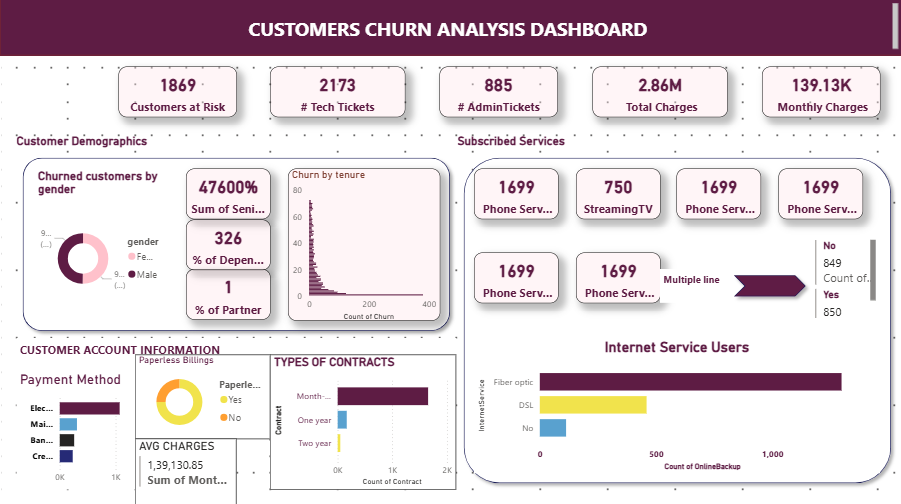

The dashboard page shown, as its layout file describes it:
{"tool":"powerbi","page":{"name":"Page 1","canvas":[1280,720],"ordinal":0},"visuals":[{"type":"card","fields":{"Values":["Count(01 Churn-Dataset.customerID)"]},"box":[168,96,168,72],"z":0},{"type":"textbox","box":[0,0,1280,80],"z":1000},{"type":"card","fields":{"Values":["Sum(01 Churn-Dataset.numAdminTickets)"]},"box":[624,96,168,72],"z":2000},{"type":"card","fields":{"Values":["Sum(01 Churn-Dataset.numTechTickets)"]},"box":[384,96,192,72],"z":3000},{"type":"card","fields":{"Values":["Sum(01 Churn-Dataset.TotalCharges)"]},"box":[840,96,192,72],"z":4000},{"type":"card","fields":{"Values":["Sum(01 Churn-Dataset.MonthlyCharges)"]},"box":[1080,96,168,72],"z":5000},{"type":"shape","title":"Customer Demographics","box":[24,192,624,288],"z":6000},{"type":"donutChart","title":"Churned customers by gender","fields":{"Category":["01 Churn-Dataset.gender"],"Y":["CountNonNull(01 Churn-Dataset.customerID)"]},"box":[48,240,192,216],"z":7000},{"type":"card","fields":{"Values":["Sum(01 Churn-Dataset.SeniorCitizen)"]},"box":[264,240,120,72],"z":8000},{"type":"card","fields":{"Values":["CountNonNull(01 Churn-Dataset.Dependents)"]},"box":[264,312,120,72],"z":9000},{"type":"card","fields":{"Values":["Count(01 Churn-Dataset.Partner)"]},"box":[264,384,120,72],"z":10000},{"type":"clusteredBarChart","title":"Churn by tenure","fields":{"Y":["CountNonNull(01 Churn-Dataset.Churn)"],"Category":["01 Churn-Dataset.tenure"]},"box":[408,240,216,216],"z":11000},{"type":"shape","title":"Subscribed Services","box":[648,192,624,504],"z":12000},{"type":"card","fields":{"Values":["CountNonNull(01 Churn-Dataset.PhoneService)"]},"box":[672,240,120,72],"z":13000},{"type":"card","fields":{"Values":["CountNonNull(01 Churn-Dataset.PhoneService)"]},"box":[1104,240,120,72],"z":14000},{"type":"card","fields":{"Values":["CountNonNull(01 Churn-Dataset.PhoneService)"]},"box":[816,360,120,72],"z":15000},{"type":"card","fields":{"Values":["CountNonNull(01 Churn-Dataset.PhoneService)"]},"box":[672,360,120,72],"z":16000},{"type":"card","fields":{"Values":["CountNonNull(01 Churn-Dataset.StreamingTV)"]},"box":[816,240,120,72],"z":17000},{"type":"card","fields":{"Values":["CountNonNull(01 Churn-Dataset.PhoneService)"]},"box":[960,240,120,72],"z":18000},{"type":"multiRowCard","fields":{"Values":["01 Churn-Dataset.MultipleLines","01 Churn-Dataset.customerID"]},"box":[1152,336,96,120],"z":18001},{"type":"shape","box":[1032,384,120,48],"z":18002},{"type":"textbox","box":[936,384,96,48],"z":18003},{"type":"barChart","title":" Internet Service Users","fields":{"Category":["01 Churn-Dataset.InternetService"],"Y":["CountNonNull(01 Churn-Dataset.OnlineBackup)"]},"box":[672,480,576,192],"z":18004},{"type":"textbox","box":[24,480,624,48],"z":18005},{"type":"clusteredBarChart","title":"Payment Method","fields":{"Category":["01 Churn-Dataset.PaymentMethod"],"Y":["CountNonNull(01 Churn-Dataset.Churn)"]},"box":[24,528,192,168],"z":18006},{"type":"donutChart","title":" Paperless Billings","fields":{"Category":["01 Churn-Dataset.PaperlessBilling"],"Y":["CountNonNull(01 Churn-Dataset.PaperlessBilling)"]},"box":[192,504,192,120],"z":18007},{"type":"multiRowCard","title":"AVG CHARGES","fields":{"Values":["Sum(01 Churn-Dataset.MonthlyCharges)"]},"box":[192,624,144,96],"z":18008},{"type":"clusteredBarChart","title":"TYPES OF CONTRACTS","fields":{"Category":["01 Churn-Dataset.Contract"],"Y":["CountNonNull(01 Churn-Dataset.Contract)"]},"box":[384,504,264,192],"z":18009}]}

Visuals, with their boxes in screenshot pixels (x1, y1, x2, y2), scaled from the page's 1280x720 canvas onto the 901x504 screenshot:
card - Count(01 Churn-Dataset.customerID): 118:67:237:118
textbox: 0:0:900:56
card - Sum(01 Churn-Dataset.numAdminTickets): 439:67:557:118
card - Sum(01 Churn-Dataset.numTechTickets): 270:67:405:118
card - Sum(01 Churn-Dataset.TotalCharges): 591:67:726:118
card - Sum(01 Churn-Dataset.MonthlyCharges): 760:67:878:118
"Customer Demographics" shape: 17:134:456:336
"Churned customers by gender" donutChart: 34:168:169:319
card - Sum(01 Churn-Dataset.SeniorCitizen): 186:168:270:218
card - CountNonNull(01 Churn-Dataset.Dependents): 186:218:270:269
card - Count(01 Churn-Dataset.Partner): 186:269:270:319
"Churn by tenure" clusteredBarChart: 287:168:439:319
"Subscribed Services" shape: 456:134:895:487
card - CountNonNull(01 Churn-Dataset.PhoneService): 473:168:557:218
card - CountNonNull(01 Churn-Dataset.PhoneService): 777:168:862:218
card - CountNonNull(01 Churn-Dataset.PhoneService): 574:252:659:302
card - CountNonNull(01 Churn-Dataset.PhoneService): 473:252:557:302
card - CountNonNull(01 Churn-Dataset.StreamingTV): 574:168:659:218
card - CountNonNull(01 Churn-Dataset.PhoneService): 676:168:760:218
multiRowCard - 01 Churn-Dataset.MultipleLines x 01 Churn-Dataset.customerID: 811:235:878:319
shape: 726:269:811:302
textbox: 659:269:726:302
" Internet Service Users" barChart: 473:336:878:470
textbox: 17:336:456:370
"Payment Method" clusteredBarChart: 17:370:152:487
" Paperless Billings" donutChart: 135:353:270:437
"AVG CHARGES" multiRowCard: 135:437:237:503
"TYPES OF CONTRACTS" clusteredBarChart: 270:353:456:487
